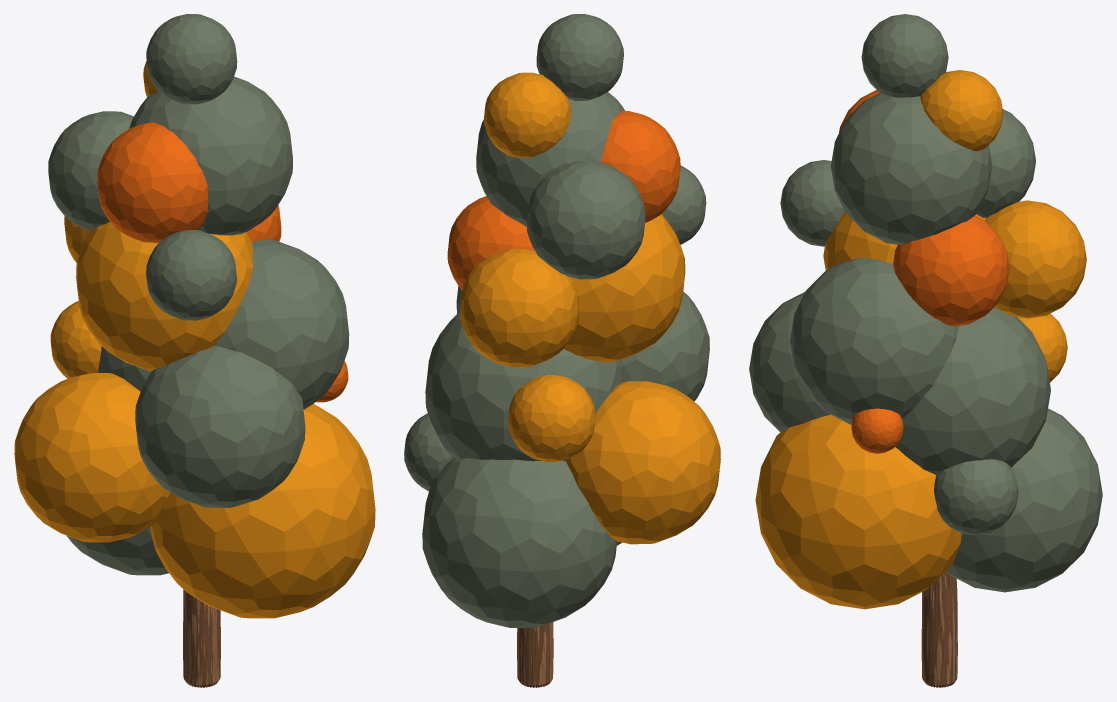
The model's file is alberopallearancio.fbx.
The picture shows the model from 3 angles, left to right: view 1: azimuth 30°, elevation 25°; view 2: azimuth 150°, elevation 25°; view 3: azimuth 270°, elevation 25°; orthographic projection. The views are drawn at different scales.
Parts seen in each view (by area): view 1: Albero_giallo; view 2: Albero_giallo; view 3: Albero_giallo.
Part boxes in pixels (<box>): Albero_giallo: <box>14,14,375,687</box>; Albero_giallo: <box>404,14,720,687</box>; Albero_giallo: <box>749,14,1102,687</box>.
Size of the model in its own units: 704 by 1542 by 760.
